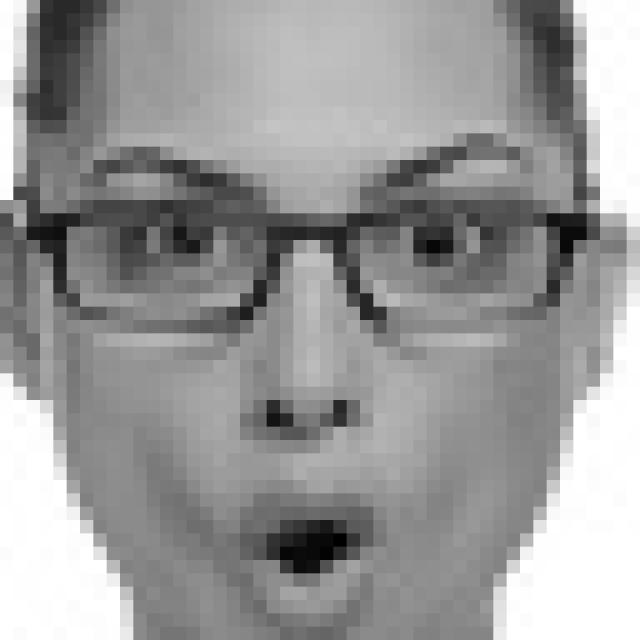surprise: (76, 125, 548, 640)
